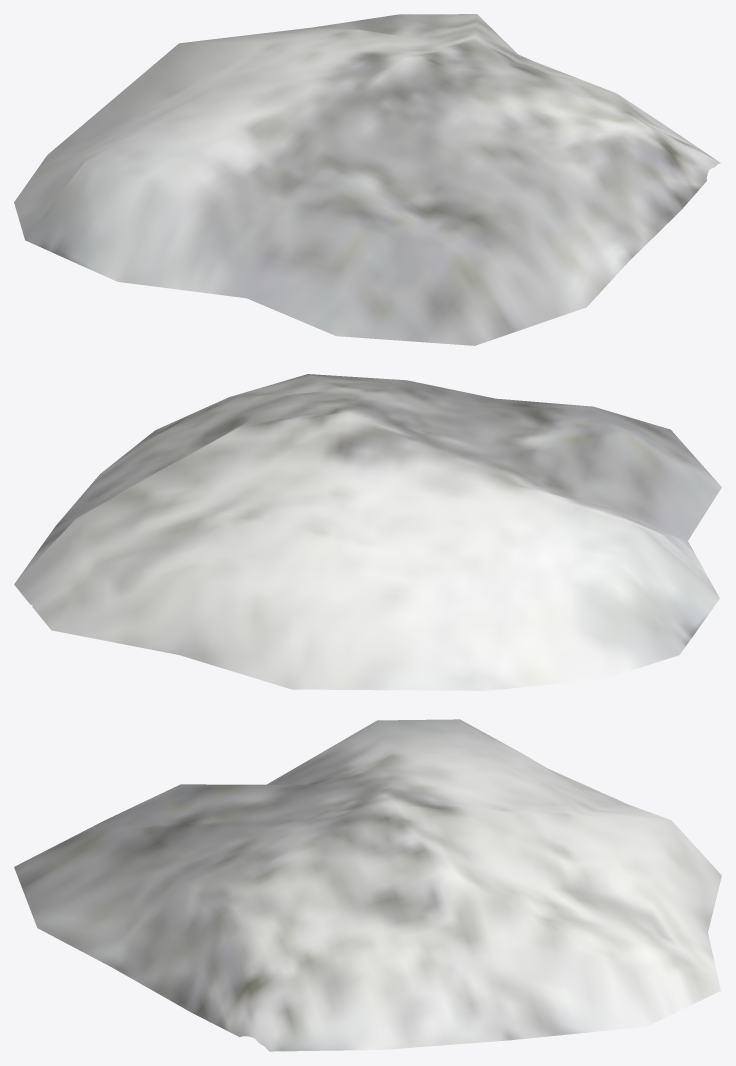
File: white_powder.FBX
The picture shows the model from 3 angles, top to bottom: view 1: azimuth 30°, elevation 25°; view 2: azimuth 150°, elevation 25°; view 3: azimuth 270°, elevation 25°; orthographic projection. The views are drawn at different scales.
Parts seen in each view (by area): view 1: white_powder; view 2: white_powder; view 3: white_powder.
Part boxes in pixels (x1,y1,x2,y2): white_powder: (14, 14, 720, 345); white_powder: (14, 374, 721, 690); white_powder: (14, 719, 721, 1051).
Bounding box in the file's own units: 23.24 × 4.47 × 23.31.
